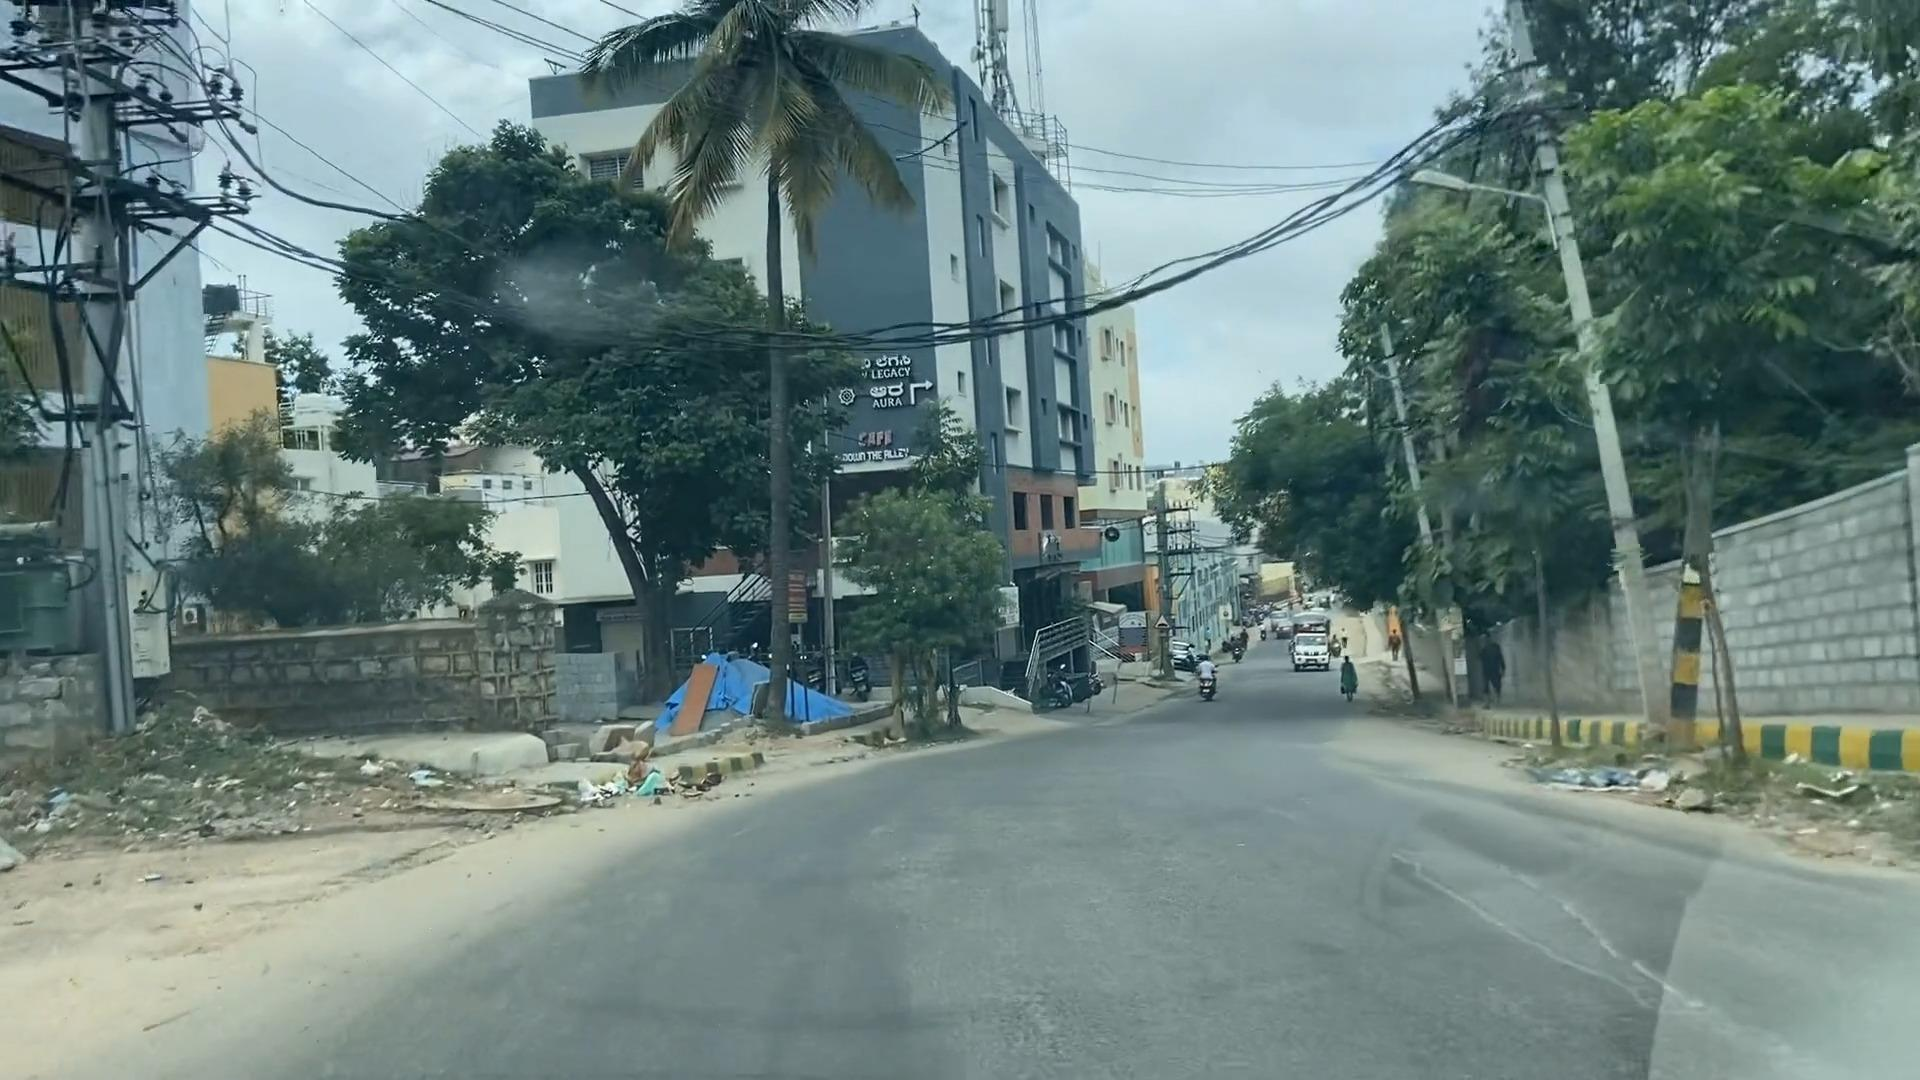RoadDamages: (1245, 811, 1825, 1080)
